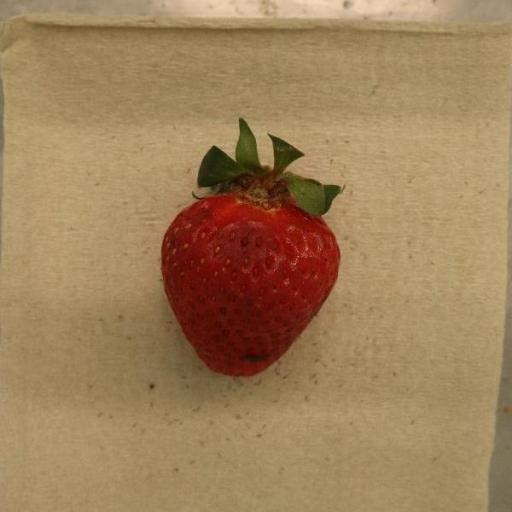Strawberry: (161, 119, 343, 378)
